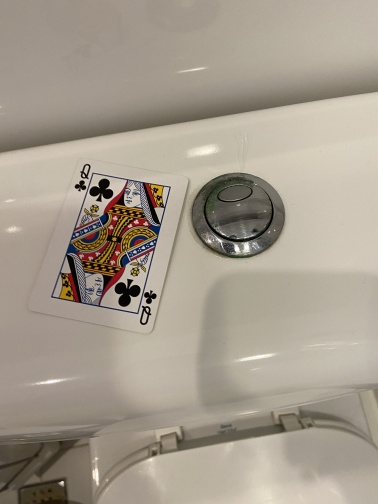queen: (28, 155, 194, 335)
